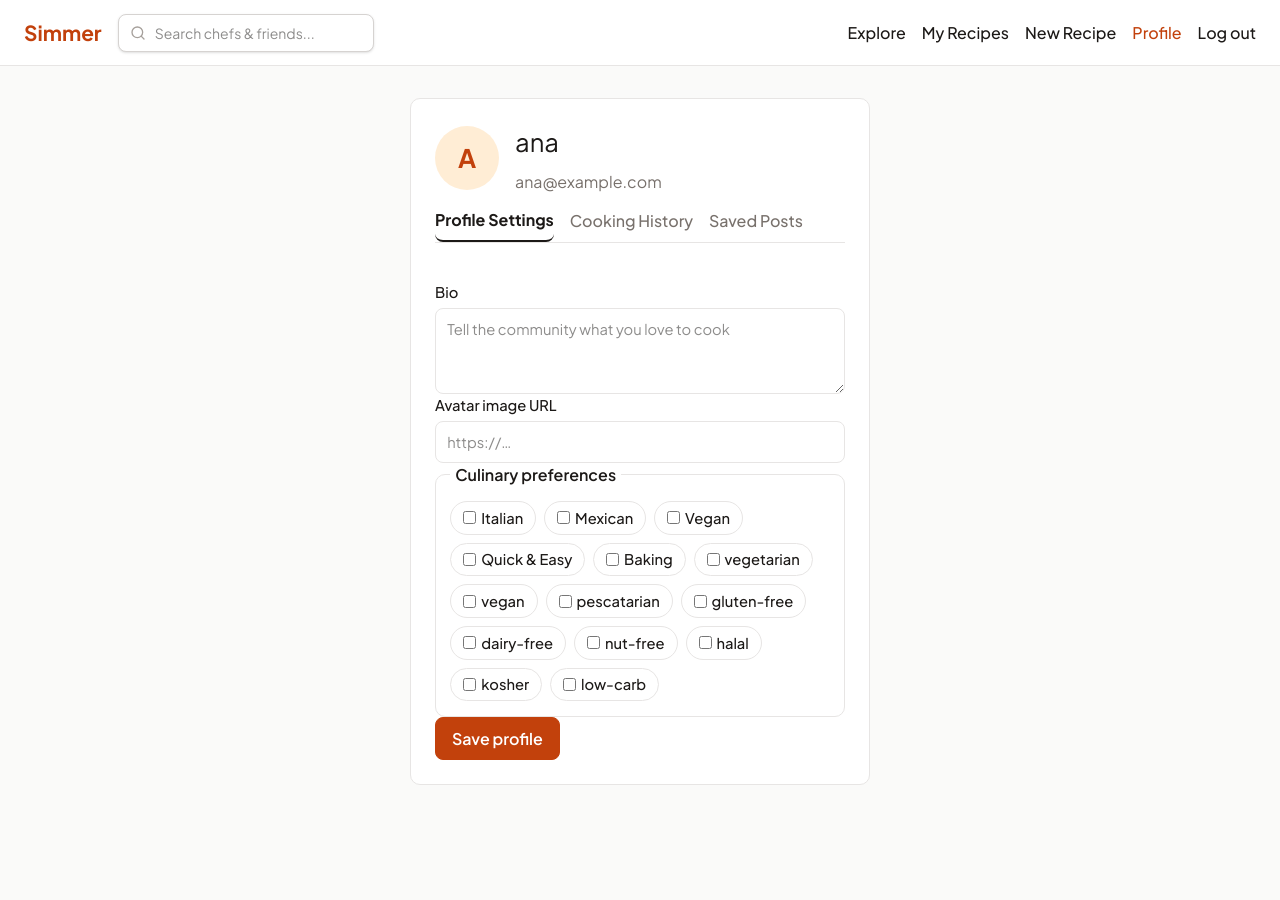
Test: profiles and recipes › renders cooking history tab with completed recipe cards and dates
The image size is (1280, 900).
Step 1. Click the button "Cooking History" → (631, 225), box [570, 208, 693, 242]
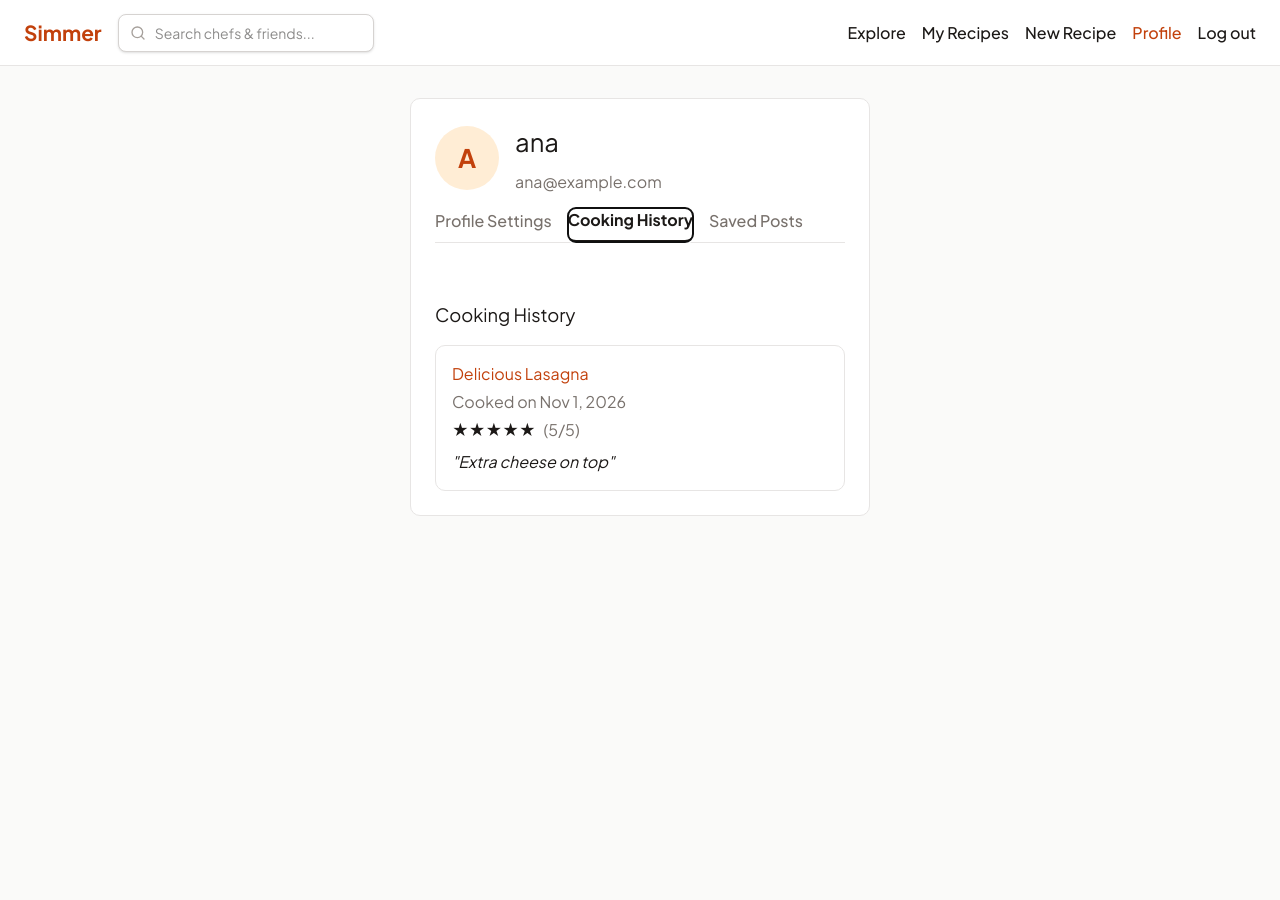
Result: the link "Delicious Lasagna" is shown at [452, 363, 589, 384]
Result: the text "\"Extra cheese on top\"" is shown at [452, 451, 614, 472]
Result: the element named "5 out of 5 stars" is shown at [452, 419, 580, 440]
